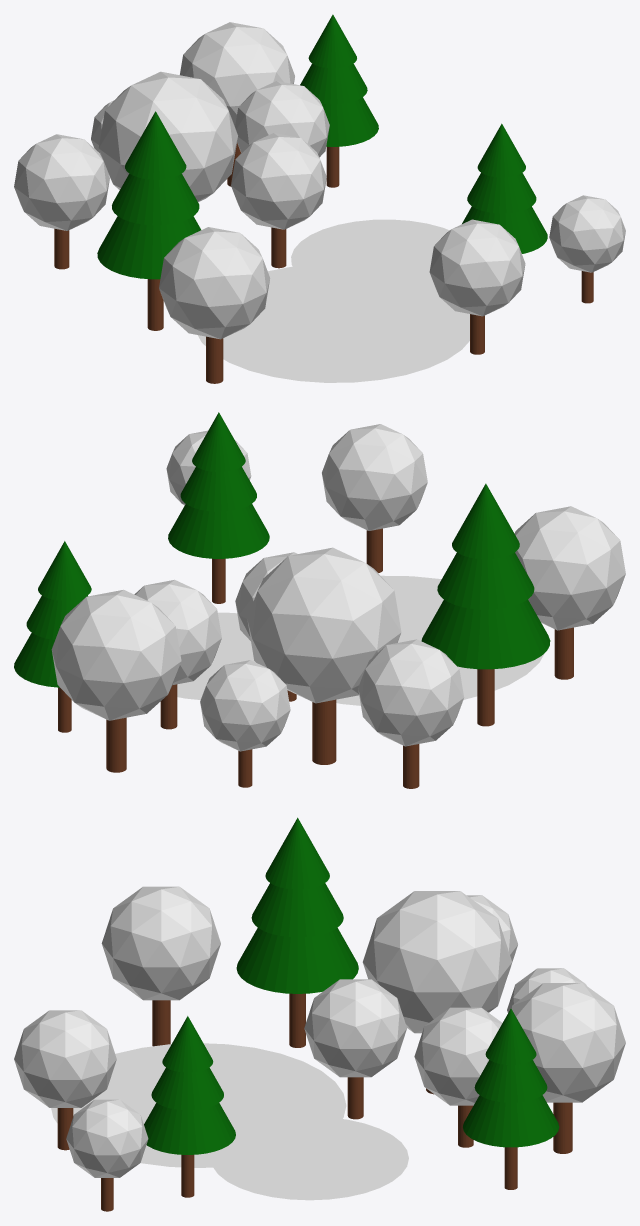
File: MODEL_Meadow.fbx
3 views of the same model, one above another, from view 1: azimuth 30°, elevation 25°; view 2: azimuth 150°, elevation 25°; view 3: azimuth 270°, elevation 25° (orthographic). The views are drawn at different scales.
Visible parts, largest first — view 1: Pond, PineTree.022, RoundTree.009, RoundTree.004, RoundTree.002, RoundTree.005, RoundTree.003, RoundTree.008, PineTree.024, PineTree.023, RoundTree.010, RoundTree.007; view 2: RoundTree.009, PineTree.022, RoundTree.008, RoundTree.004, RoundTree.005, PineTree.023, RoundTree.003, RoundTree.006, Pond, PineTree.024, RoundTree.007, RoundTree.010 (+1 smaller); view 3: Pond, RoundTree.009, PineTree.022, RoundTree.004, RoundTree.008, RoundTree.002, PineTree.024, RoundTree.003, PineTree.023, RoundTree.007, RoundTree.010, RoundTree.006 (+1 smaller).
Part boxes in pixels (x1,y1,x2,y2): Pond: [198, 219, 469, 382]; PineTree.022: [97, 111, 200, 330]; RoundTree.009: [98, 71, 237, 201]; RoundTree.004: [159, 227, 270, 383]; RoundTree.002: [231, 133, 326, 268]; RoundTree.005: [14, 134, 109, 269]; RoundTree.003: [429, 219, 525, 354]; RoundTree.008: [180, 22, 294, 186]; PineTree.024: [300, 14, 378, 187]; PineTree.023: [462, 123, 547, 253]; RoundTree.010: [549, 195, 625, 303]; RoundTree.007: [235, 81, 329, 157]; RoundTree.009: [247, 547, 401, 764]; PineTree.022: [421, 483, 550, 726]; RoundTree.008: [51, 589, 181, 772]; RoundTree.004: [514, 506, 625, 679]; RoundTree.005: [358, 639, 464, 788]; PineTree.023: [168, 412, 269, 603]; RoundTree.003: [322, 424, 427, 572]; RoundTree.006: [200, 660, 290, 787]; Pond: [177, 575, 544, 705]; PineTree.024: [14, 541, 91, 732]; RoundTree.007: [134, 579, 221, 729]; RoundTree.010: [166, 430, 251, 505]; Pond: [51, 1043, 408, 1200]; RoundTree.009: [362, 891, 512, 1094]; PineTree.022: [236, 817, 358, 1047]; RoundTree.004: [101, 886, 220, 1046]; RoundTree.008: [511, 983, 625, 1153]; RoundTree.002: [304, 979, 406, 1119]; PineTree.024: [463, 1008, 559, 1189]; RoundTree.003: [14, 1010, 116, 1150]; PineTree.023: [144, 1016, 235, 1197]; RoundTree.007: [414, 1007, 502, 1147]; RoundTree.010: [66, 1099, 148, 1211]; RoundTree.006: [507, 968, 586, 1012].
Bounding box in the file's own units: 125 × 61.56 × 147.
